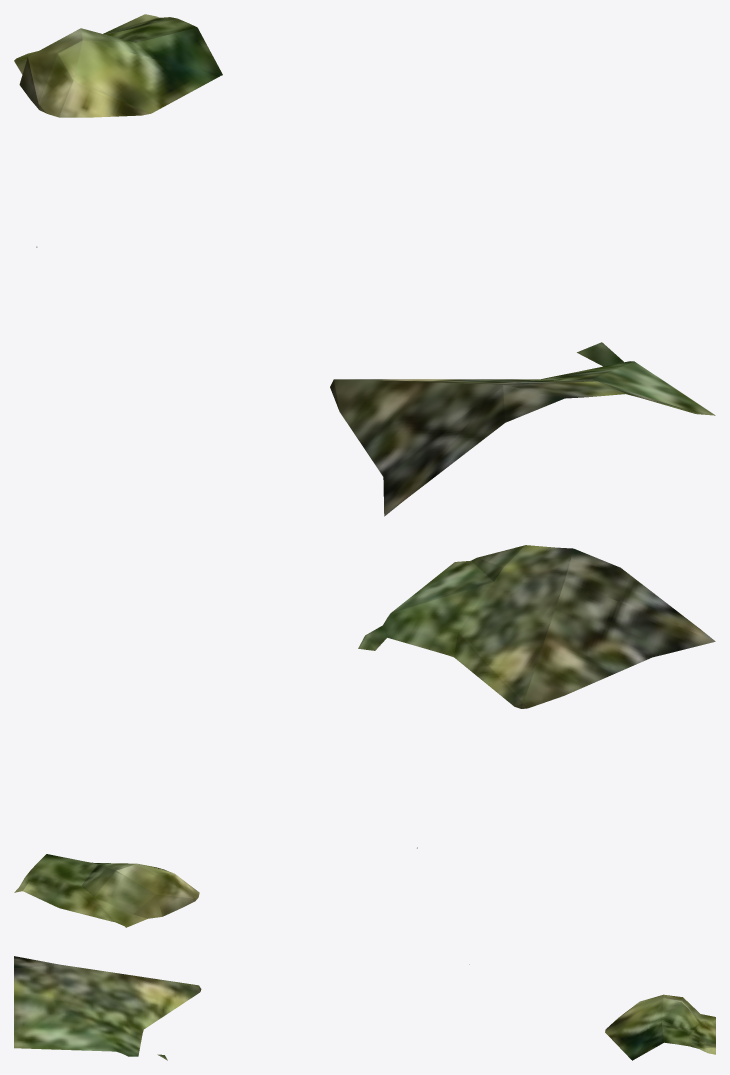
The picture shows the model from 3 angles, top to bottom: view 1: azimuth 30°, elevation 25°; view 2: azimuth 150°, elevation 25°; view 3: azimuth 270°, elevation 25°; orthographic projection. The views are drawn at different scales.
Bounding box in the file's own units: 0.573 × 0.1225 × 1.67.
1 material, 1 textured.
